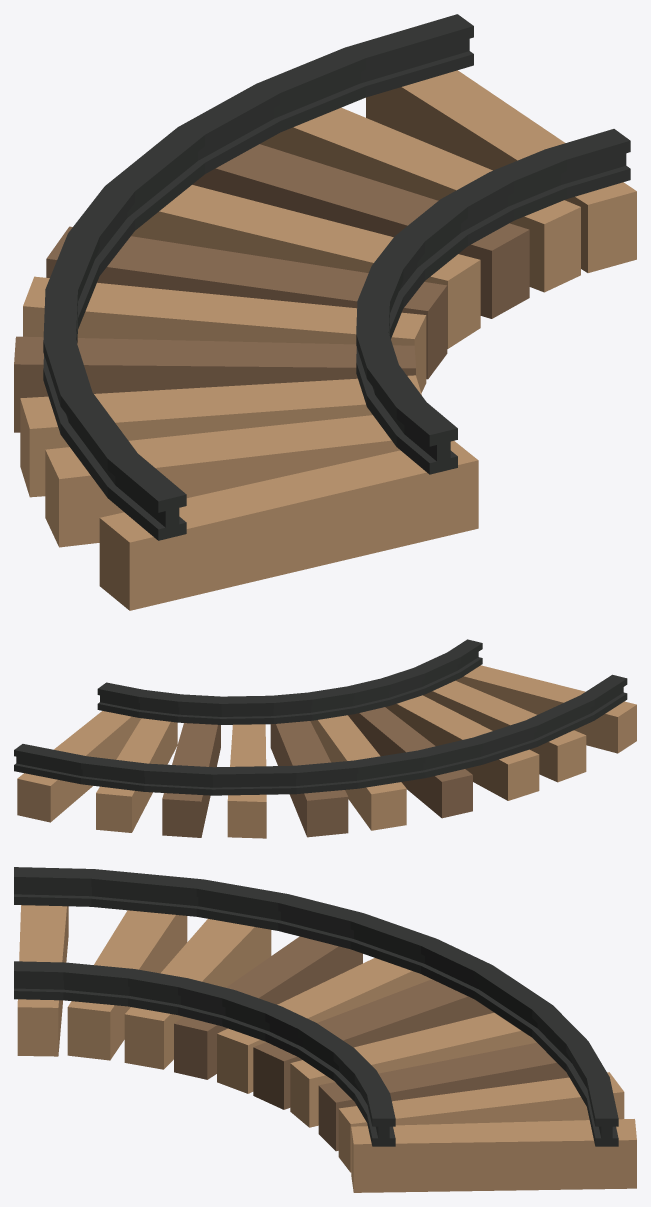
File: railroad-curve.fbx
The picture shows the model from 3 angles, top to bottom: view 1: azimuth 30°, elevation 25°; view 2: azimuth 150°, elevation 25°; view 3: azimuth 270°, elevation 25°; orthographic projection. The views are drawn at different scales.
Visible parts, largest first — view 1: railroad-curve_LOD0; view 2: railroad-curve_LOD0; view 3: railroad-curve_LOD0.
Boxes of the visible parts, <box> form: railroad-curve_LOD0: <box>14,14,636,610</box>; railroad-curve_LOD0: <box>14,639,636,838</box>; railroad-curve_LOD0: <box>14,867,636,1192</box>.
Size of the model in its own units: 4.32 by 0.5954 by 4.38.
